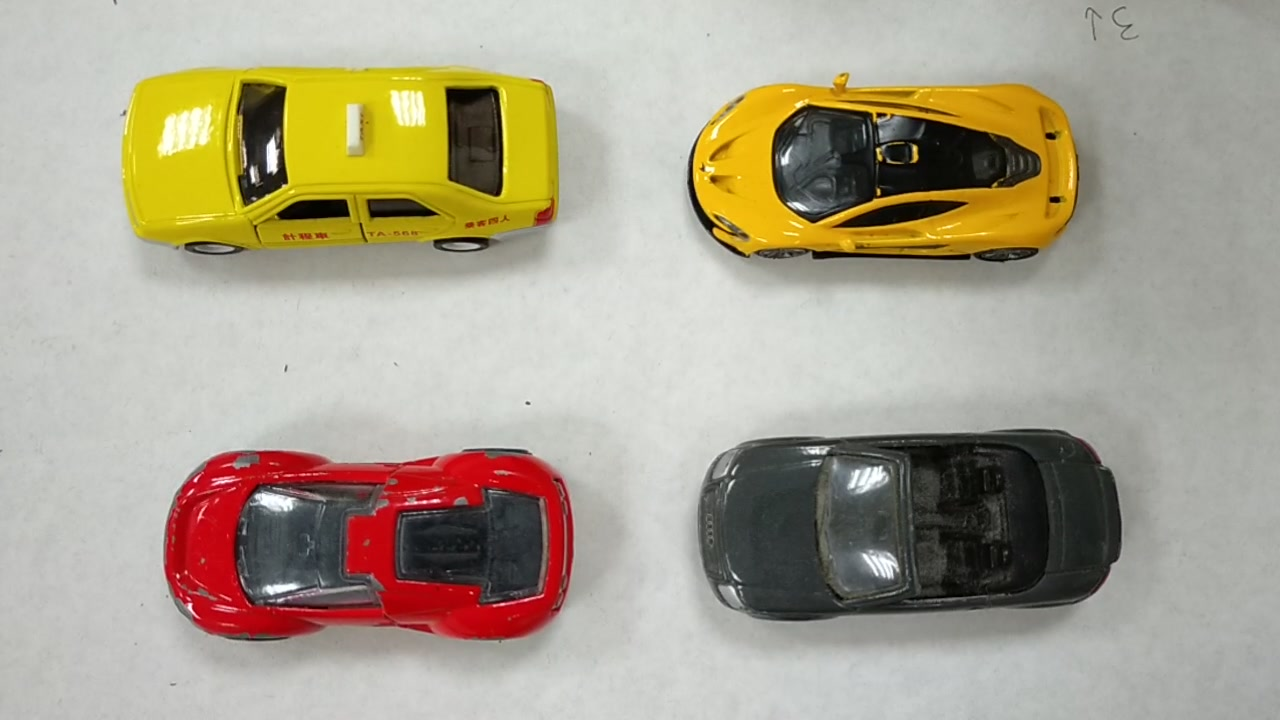car: (156, 449, 587, 631), (130, 79, 560, 245), (703, 439, 1119, 610), (695, 88, 1084, 249)
